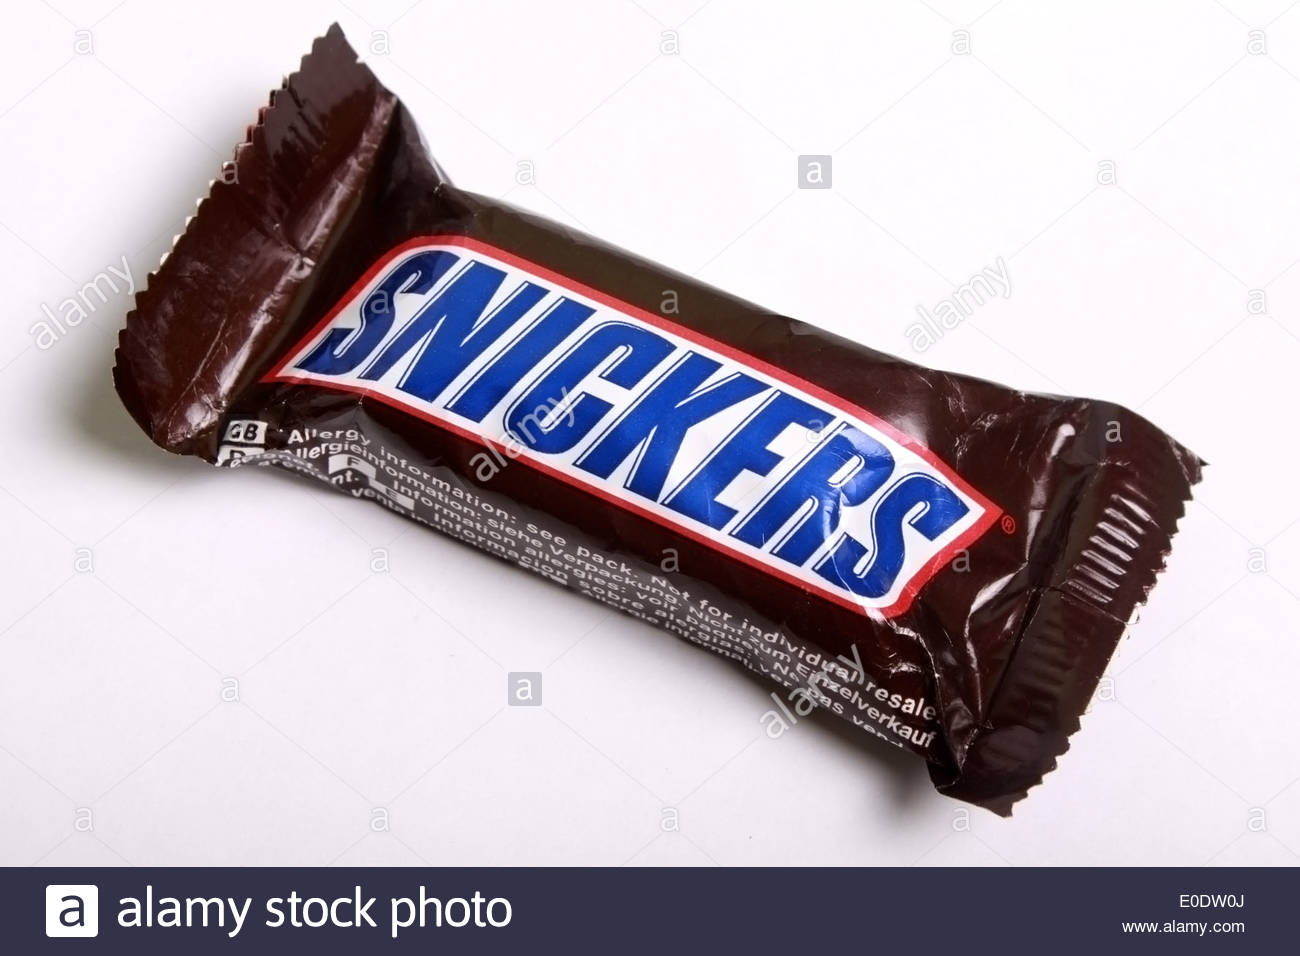snickers: (280, 243, 970, 599), (295, 250, 970, 599)
